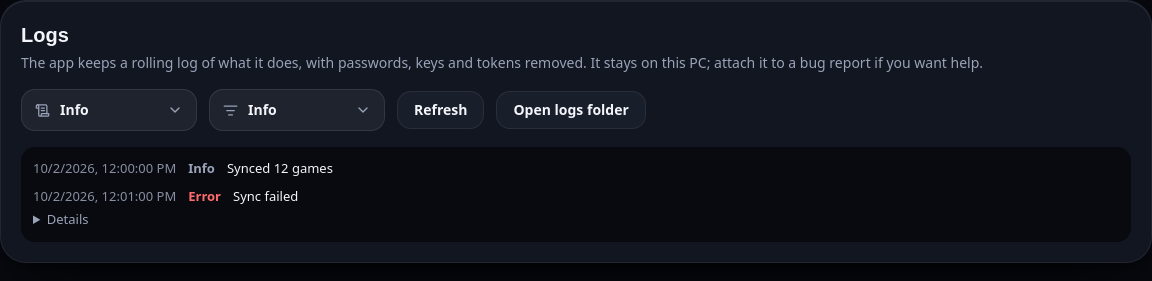
Test: LogsCard › hides the old list when a later read fails
Check: the list named "Log entries" is shown, box x1=21 y1=147 x2=1131 y2=242
Click the button "Refresh".
click(441, 110)  # box x1=397 y1=91 x2=484 y2=129
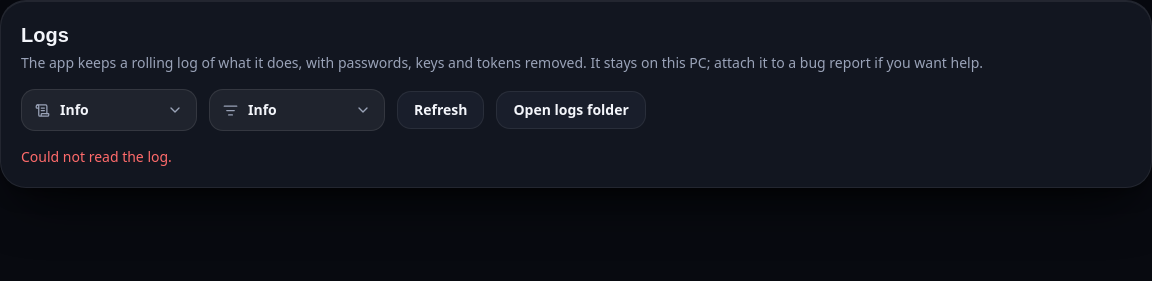
Check: the message reads "Could not read the log.", box x1=21 y1=147 x2=172 y2=166
